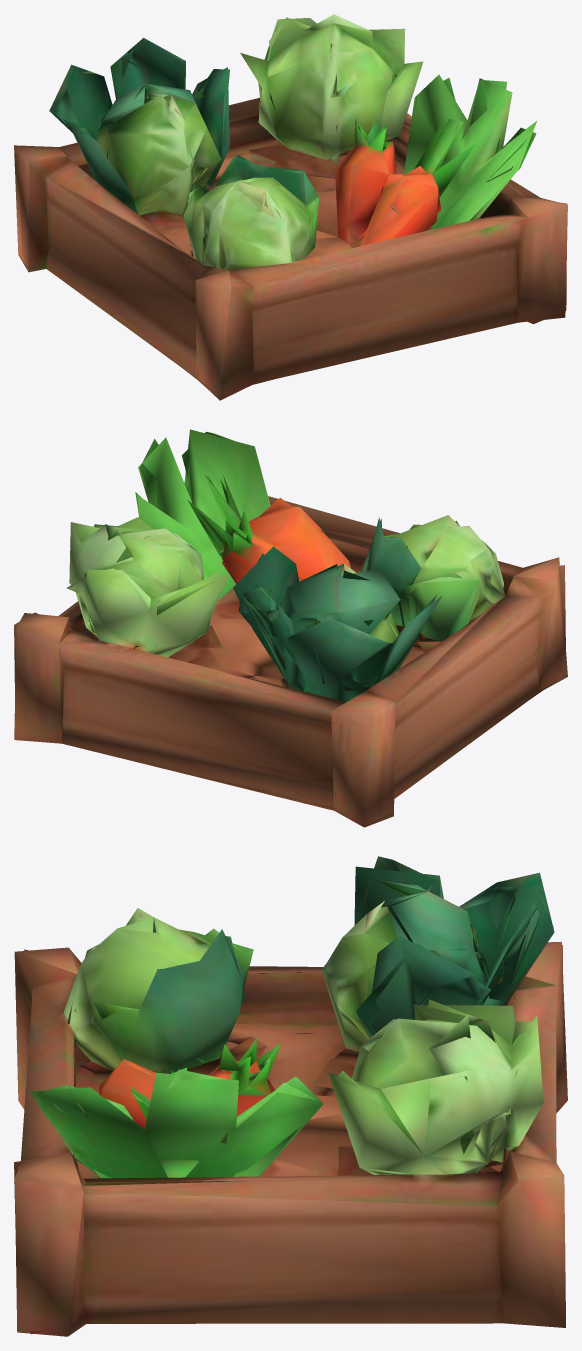
Rendered from lg-garden-bed.glb.
3 renders of one model, top to bottom at view 1: azimuth 30°, elevation 25°; view 2: azimuth 150°, elevation 25°; view 3: azimuth 270°, elevation 25°, orthographic. The views are drawn at different scales.
Parts seen in each view (by area): view 1: geometry_0; view 2: geometry_0; view 3: geometry_0.
Boxes of the visible parts, x1,y1,x2,y2 form: geometry_0: (14,14,567,400); geometry_0: (14,429,567,827); geometry_0: (14,856,567,1336).
Size of the model in its own units: 1 by 0.5277 by 0.9658.
1 material, 1 textured.
